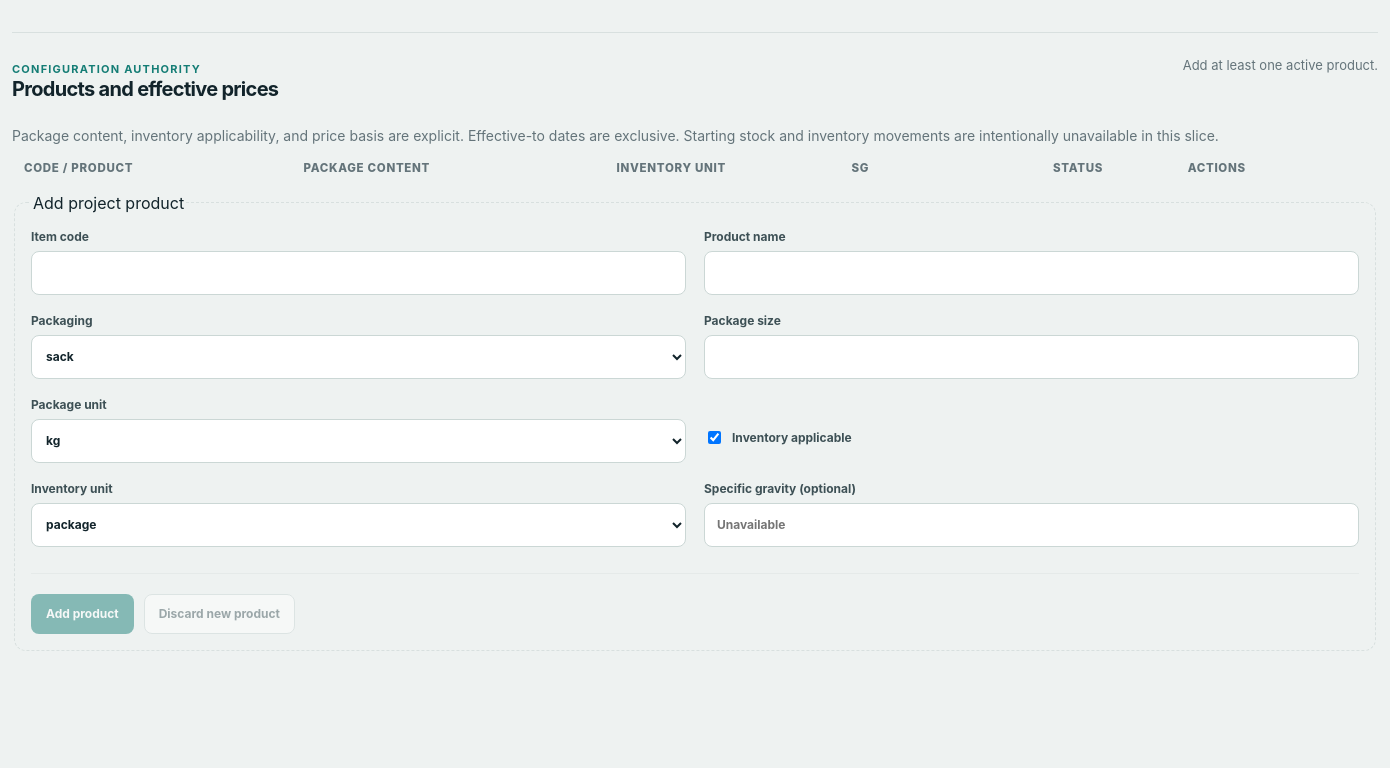
it: product and pricing grid › VTX-PRO-001 exposes packaging, inventory unit, SG availability, and price readiness
Expected: the text "Add at least one active product." is shown, x1=1183 y1=57 x2=1378 y2=73
In the field labelled "Item code": [358, 273] box x1=31 y1=251 x2=686 y2=295, type "BAR-001"
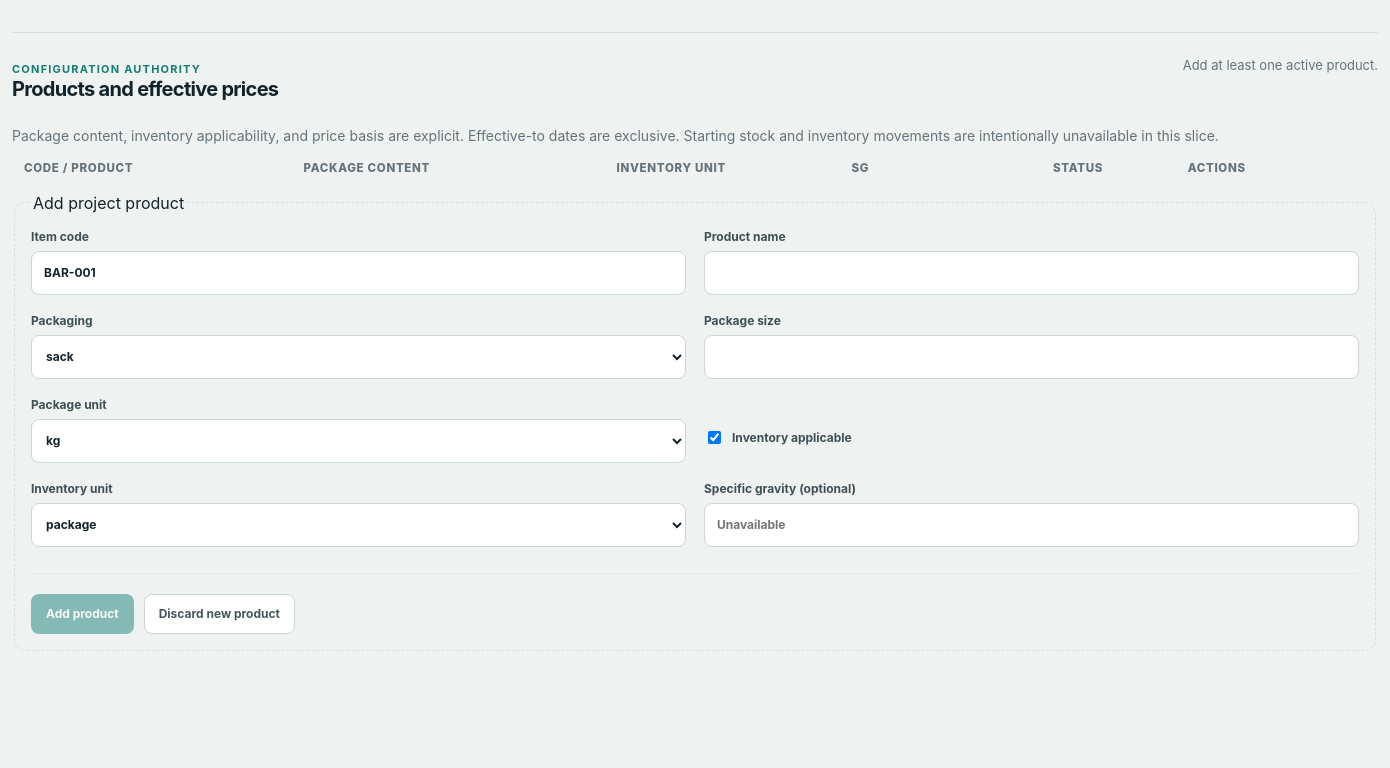
In the field labelled "Product name": [1032, 273] box x1=704 y1=251 x2=1359 y2=295, type "Barite"
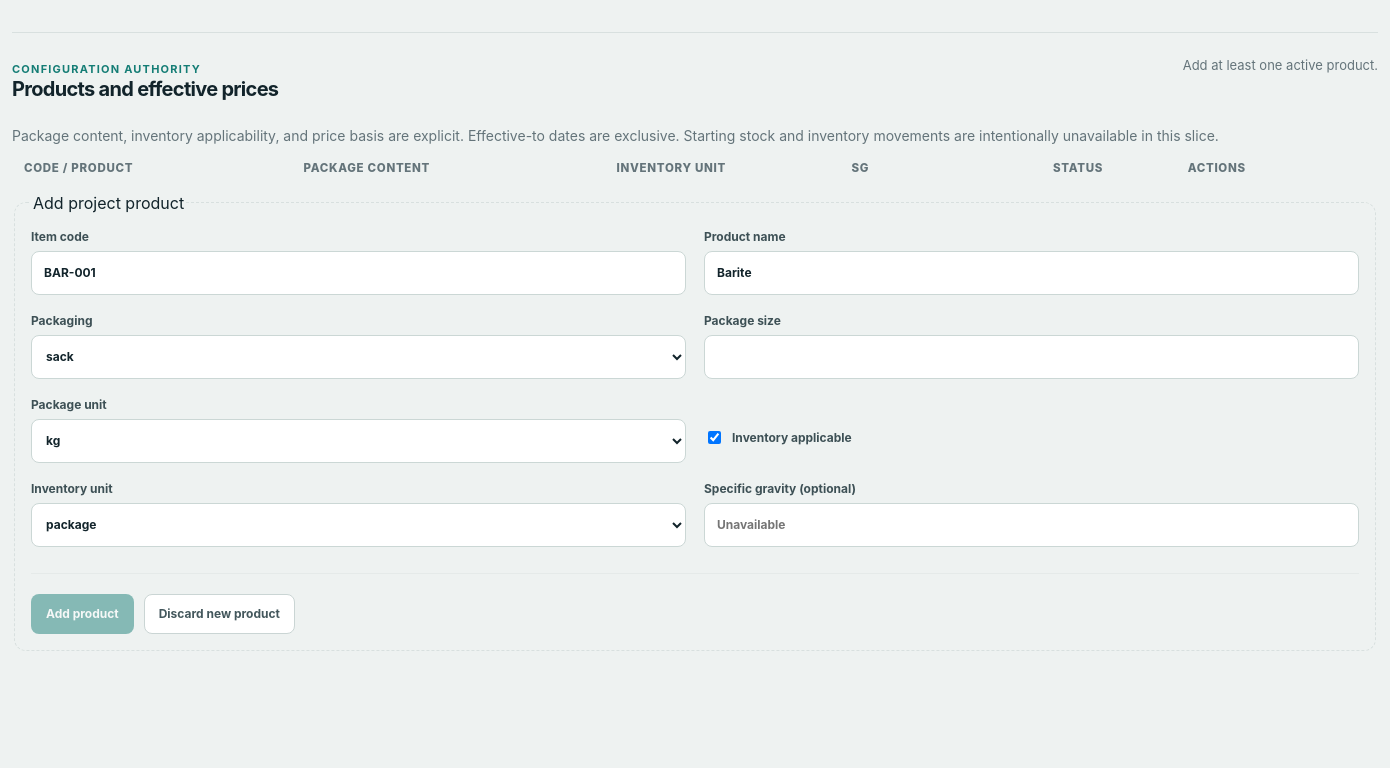
In the field labelled "Package size": [1032, 357] box x1=704 y1=335 x2=1359 y2=379, type "25"
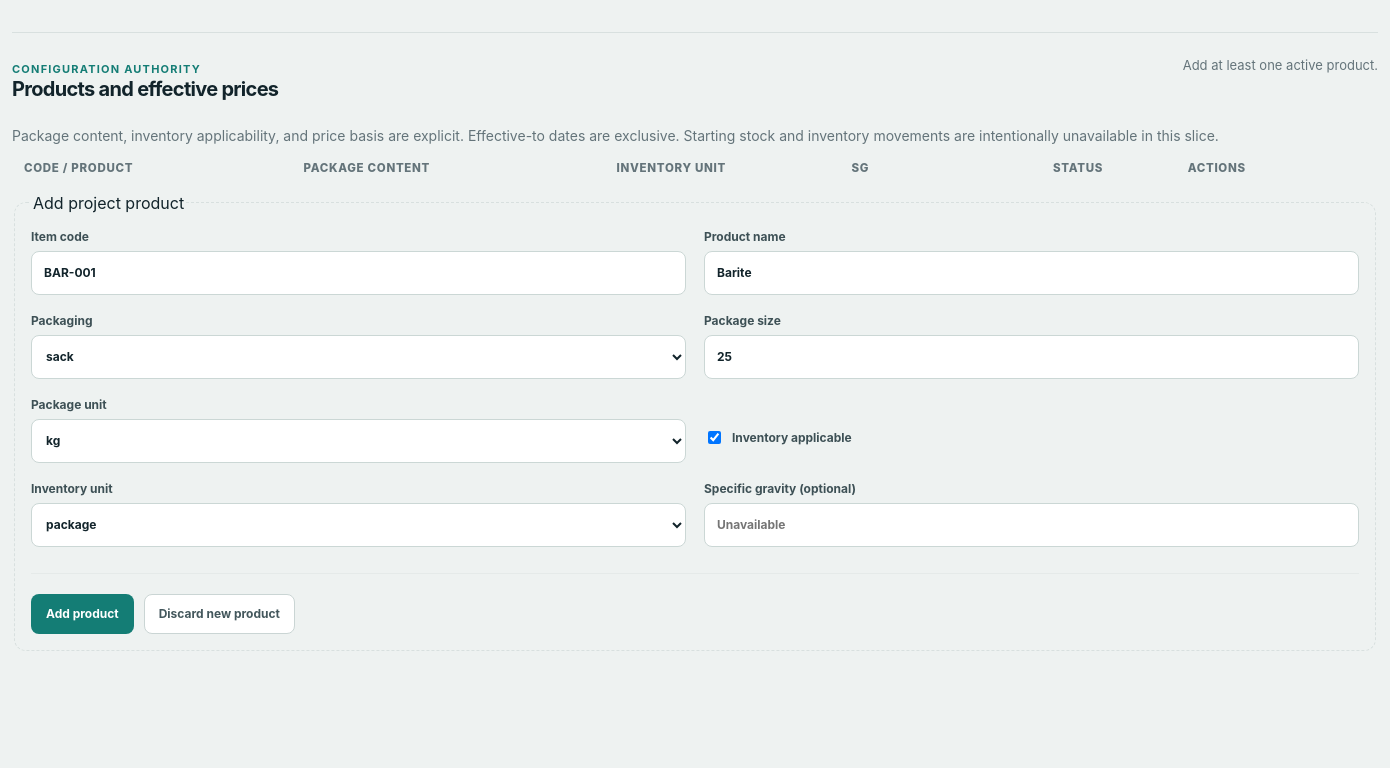
Click the button "Add product": [82, 614] box x1=31 y1=594 x2=134 y2=634
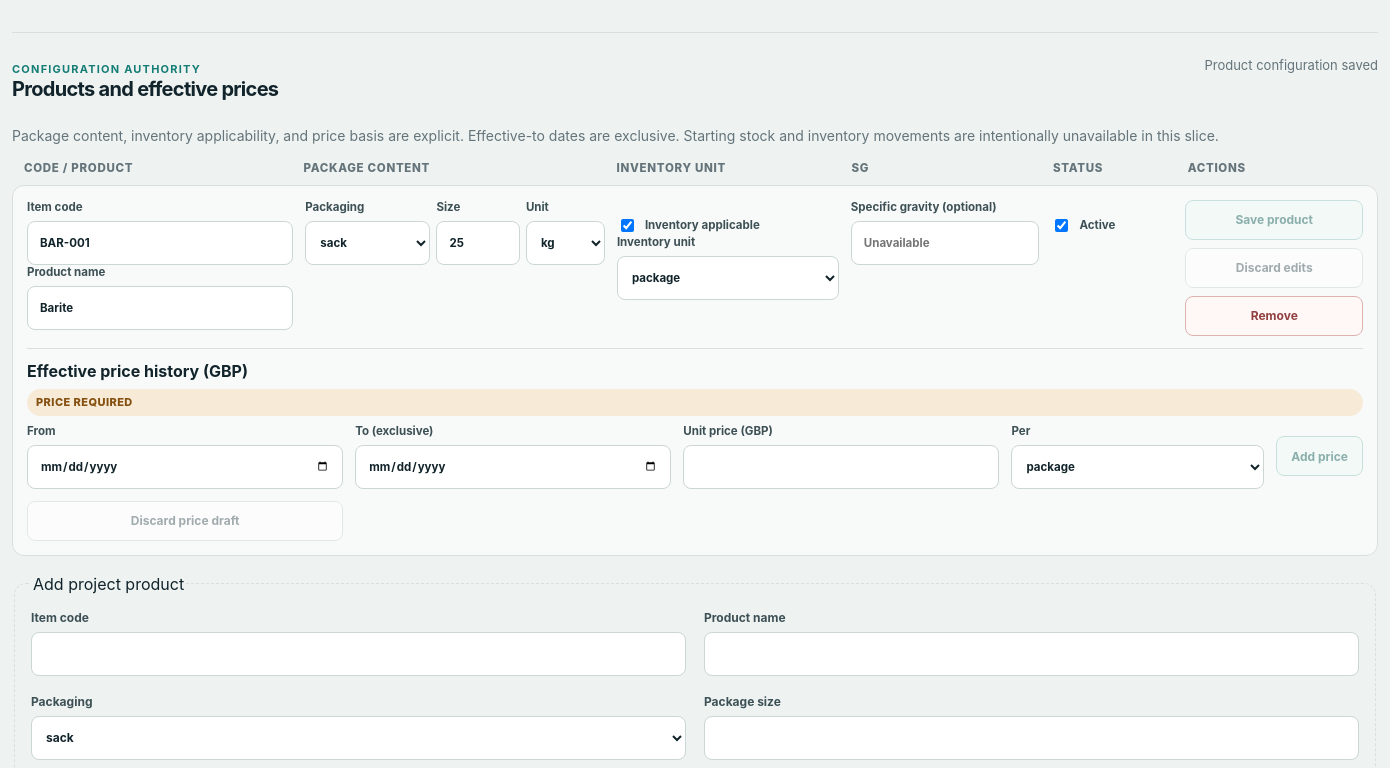
Now the text "Price required" is shown, box x1=27 y1=389 x2=1363 y2=416
Now the date field labelled "From" is empty, box x1=27 y1=445 x2=343 y2=489
Now the button "Add price" is disabled, box x1=1276 y1=436 x2=1363 y2=476
